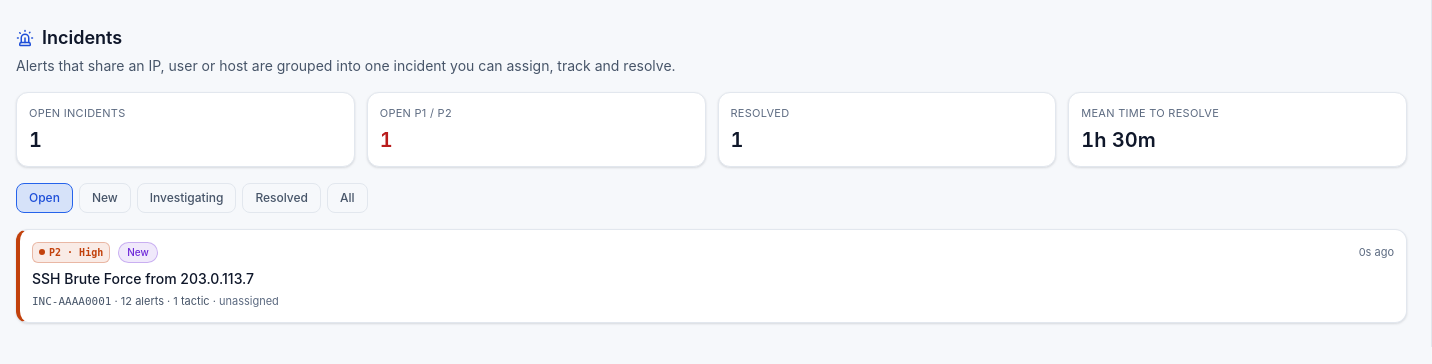
Scenario: Incidents page › shows queue stats and only open incidents by default
Expected: the number of list items is 1, [16,228,1407,323]
Expected: the text "SSH Brute Force from 203.0.113.7" is shown, [32,270,254,286]
Click the button "Resolved": [282, 198] box [242,182,321,212]
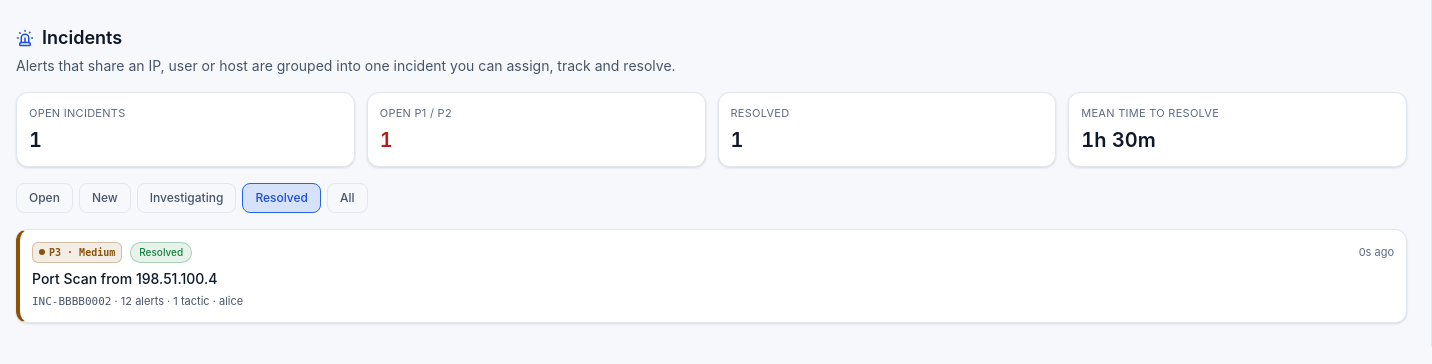
Expected: the text "Port Scan from 198.51.100.4" is shown, [32,270,217,286]
